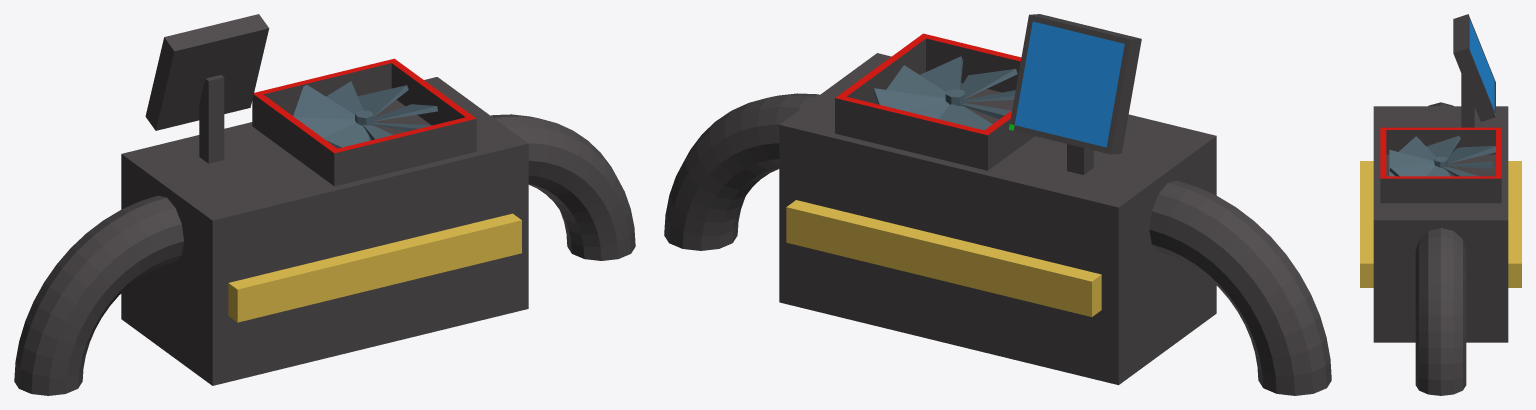
Rendered from vent.fbx.
3 renders of one model, left to right at view 1: azimuth 30°, elevation 25°; view 2: azimuth 150°, elevation 25°; view 3: azimuth 270°, elevation 25°, orthographic. The views are drawn at different scales.
Parts seen in each view (by area): view 1: Cube.001, Cylinder; view 2: Cube.001, Cylinder; view 3: Cube.001, Cylinder.
Boxes of the visible parts, bbox=[...] form: Cube.001: bbox=[14, 14, 635, 395]; Cylinder: bbox=[293, 81, 437, 148]; Cube.001: bbox=[664, 14, 1331, 395]; Cylinder: bbox=[873, 56, 1017, 130]; Cube.001: bbox=[1360, 14, 1521, 395]; Cylinder: bbox=[1389, 136, 1495, 176].
Size of the model in its own units: 775 by 360 by 240.
